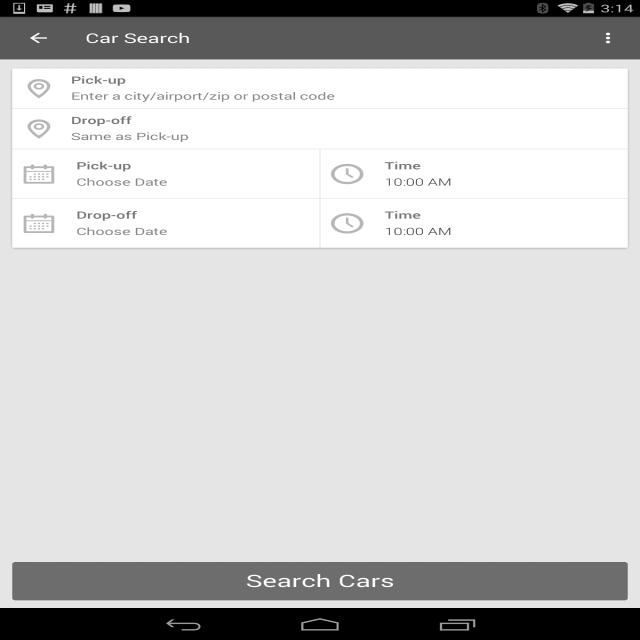Button: (12, 562, 628, 600)
ImageButton: (9, 17, 68, 59)
ImageView: (589, 22, 631, 54)
TextView: (71, 74, 619, 86), (71, 115, 619, 126), (71, 86, 335, 103), (86, 17, 190, 59), (77, 159, 310, 175), (77, 208, 310, 224), (77, 175, 310, 189), (71, 126, 189, 143), (76, 224, 168, 238), (384, 159, 452, 175), (384, 208, 452, 224), (384, 175, 452, 189), (384, 224, 452, 238), (22, 211, 56, 235), (330, 211, 364, 235), (22, 77, 56, 100), (22, 117, 56, 140), (22, 162, 56, 185), (330, 162, 364, 185)
